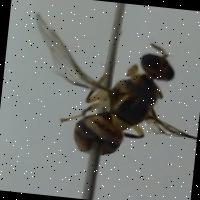Oriental-fruit-fly: (14, 0, 200, 173)
